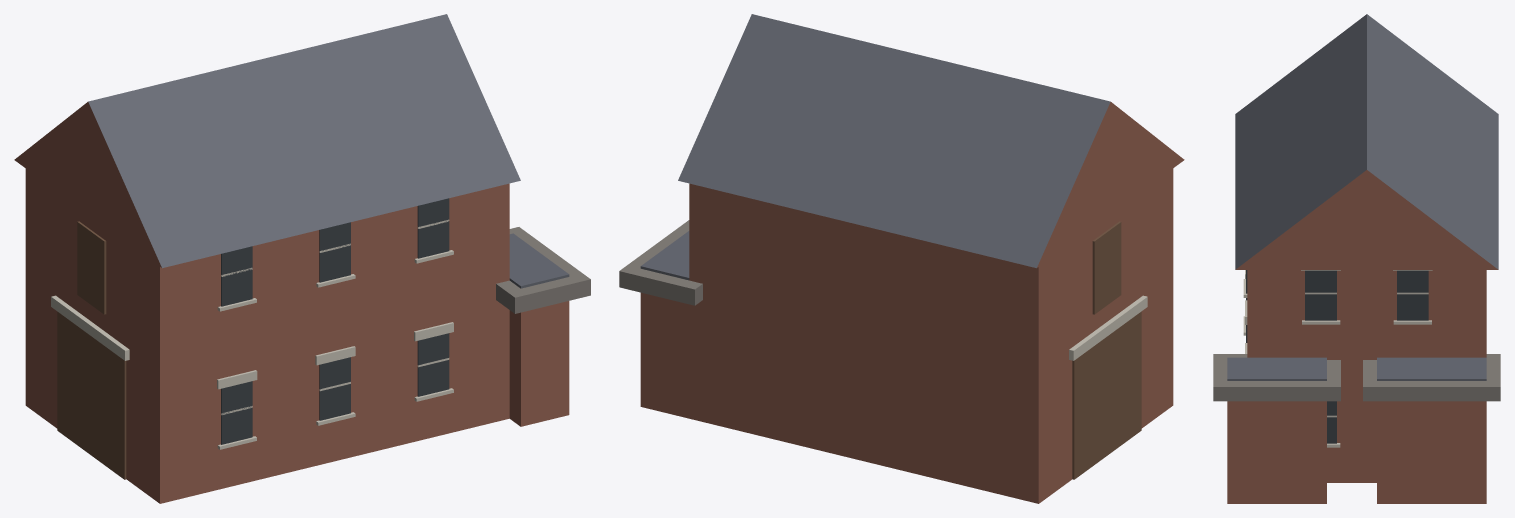
Rendered from house_2027_indiana_coach_house__draft_1904.glb.
The picture shows the model from 3 angles, left to right: view 1: azimuth 30°, elevation 25°; view 2: azimuth 150°, elevation 25°; view 3: azimuth 270°, elevation 25°; orthographic projection. The views are drawn at different scales.
Parts seen in each view (by area): view 1: house_2027_indiana_coach_house__draft_1904; view 2: house_2027_indiana_coach_house__draft_1904; view 3: house_2027_indiana_coach_house__draft_1904.
Boxes of the visible parts, x1=… form: house_2027_indiana_coach_house__draft_1904: x1=14, y1=14, x2=590, y2=503; house_2027_indiana_coach_house__draft_1904: x1=619, y1=14, x2=1184, y2=503; house_2027_indiana_coach_house__draft_1904: x1=1213, y1=14, x2=1500, y2=503.
Size of the model in its own units: 10.72 by 8.72 by 7.2.
